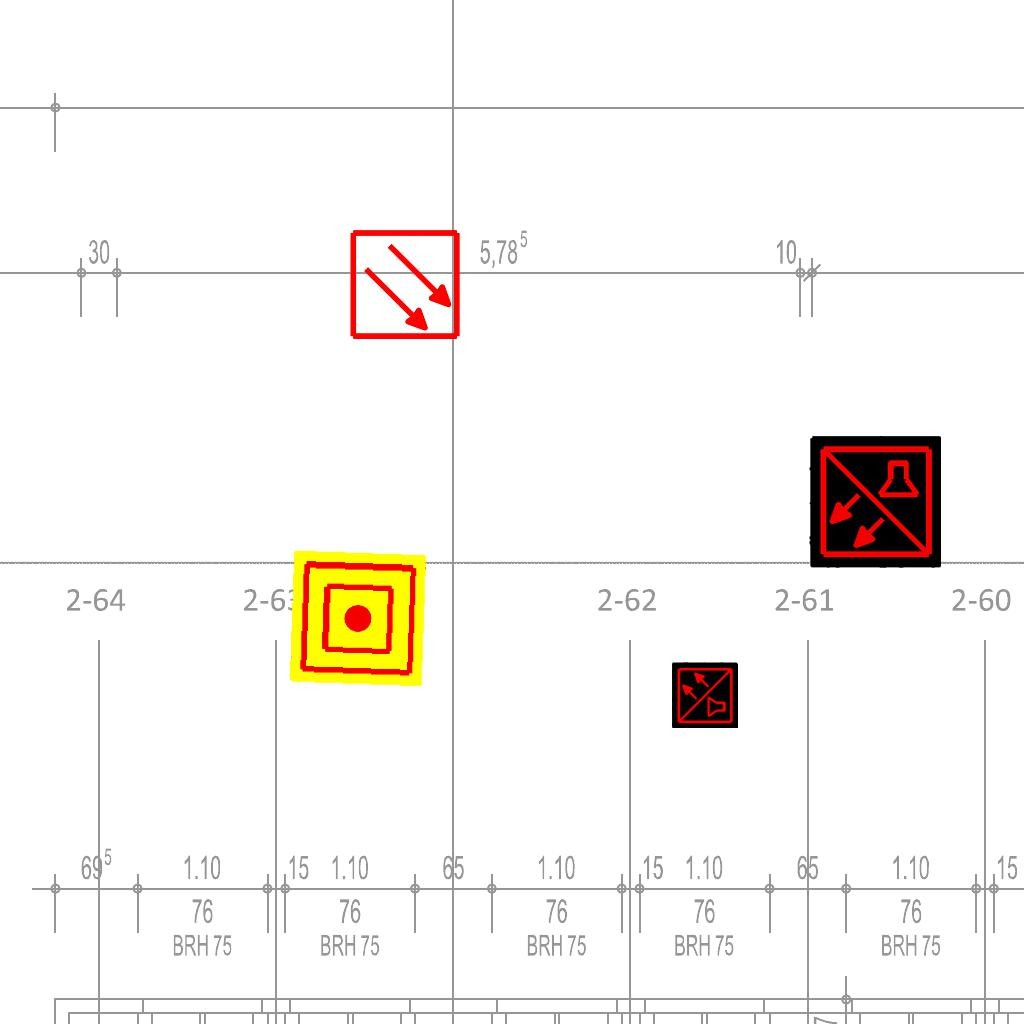NAM-Nichtautomatischer_Melder: (289, 549, 427, 687)
OKW_Multisensormelder_(Kombination_optischer_Rauch-Kahlenmonoxid_Waerme-Melder): (809, 436, 941, 568), (672, 662, 738, 728)
RMO_Rauchmelder_optischer: (349, 228, 462, 341)
